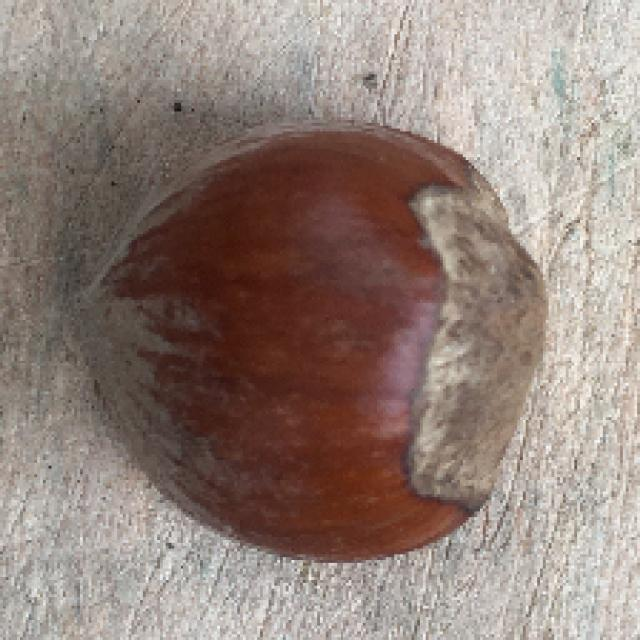qualityHazelnut: (73, 118, 551, 562)
